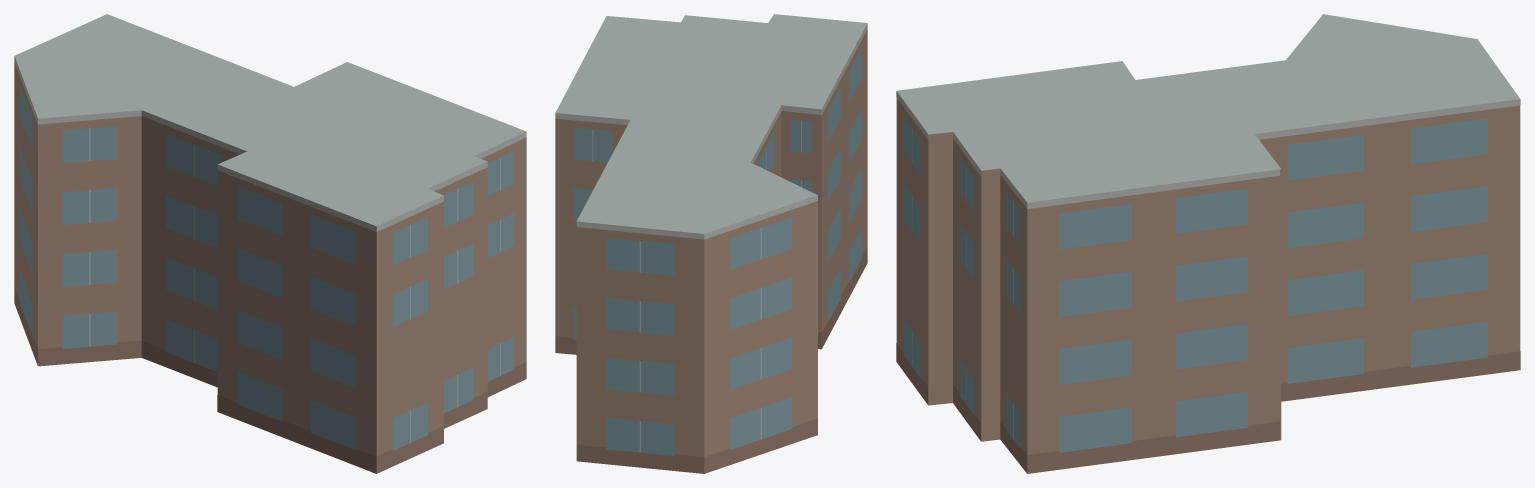
Rendered from survey-upis-32939490.glb.
3 renders of one model, left to right at view 1: azimuth 30°, elevation 25°; view 2: azimuth 150°, elevation 25°; view 3: azimuth 270°, elevation 25°, orthographic. The views are drawn at different scales.
Parts seen in each view (by area): view 1: survey-upis-32939490.tmp; view 2: survey-upis-32939490.tmp; view 3: survey-upis-32939490.tmp.
Part boxes in pixels (bbox=[...]): survey-upis-32939490.tmp: bbox=[14, 14, 526, 473]; survey-upis-32939490.tmp: bbox=[555, 14, 867, 473]; survey-upis-32939490.tmp: bbox=[896, 14, 1520, 473].
Size of the model in its own units: 15.55 by 10.4 by 21.71.
